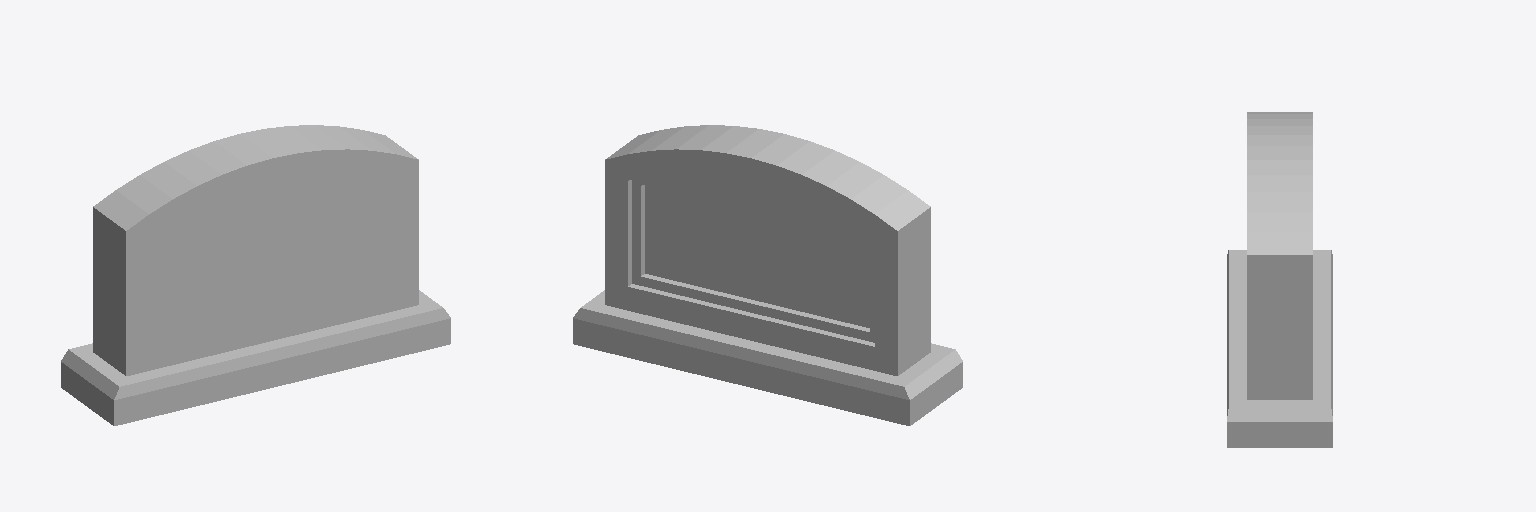
The model's file is gravestoneWide.obj.
3 renders of one model, left to right at view 1: azimuth 30°, elevation 25°; view 2: azimuth 150°, elevation 25°; view 3: azimuth 270°, elevation 25°, orthographic.
Parts seen in each view (by area): view 1: gravestoneWide; view 2: gravestoneWide; view 3: gravestoneWide.
Boxes of the visible parts, x1=… form: gravestoneWide: x1=61, y1=125, x2=450, y2=425; gravestoneWide: x1=573, y1=125, x2=962, y2=425; gravestoneWide: x1=1227, y1=112, x2=1332, y2=447.
Size of the model in its own units: 7.87 by 4.9 by 2.16.